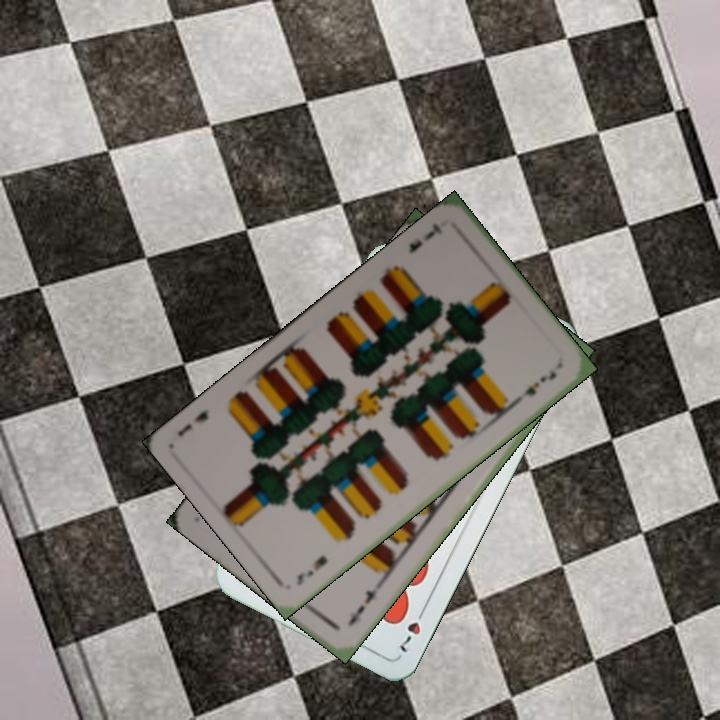E7: (344, 583, 383, 630), (404, 219, 446, 257), (292, 551, 331, 588)
H7: (395, 602, 429, 656)
